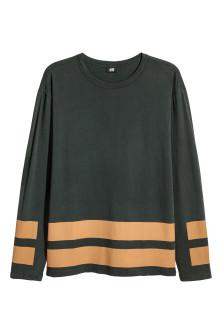teeshirt: (4, 51, 220, 305)
